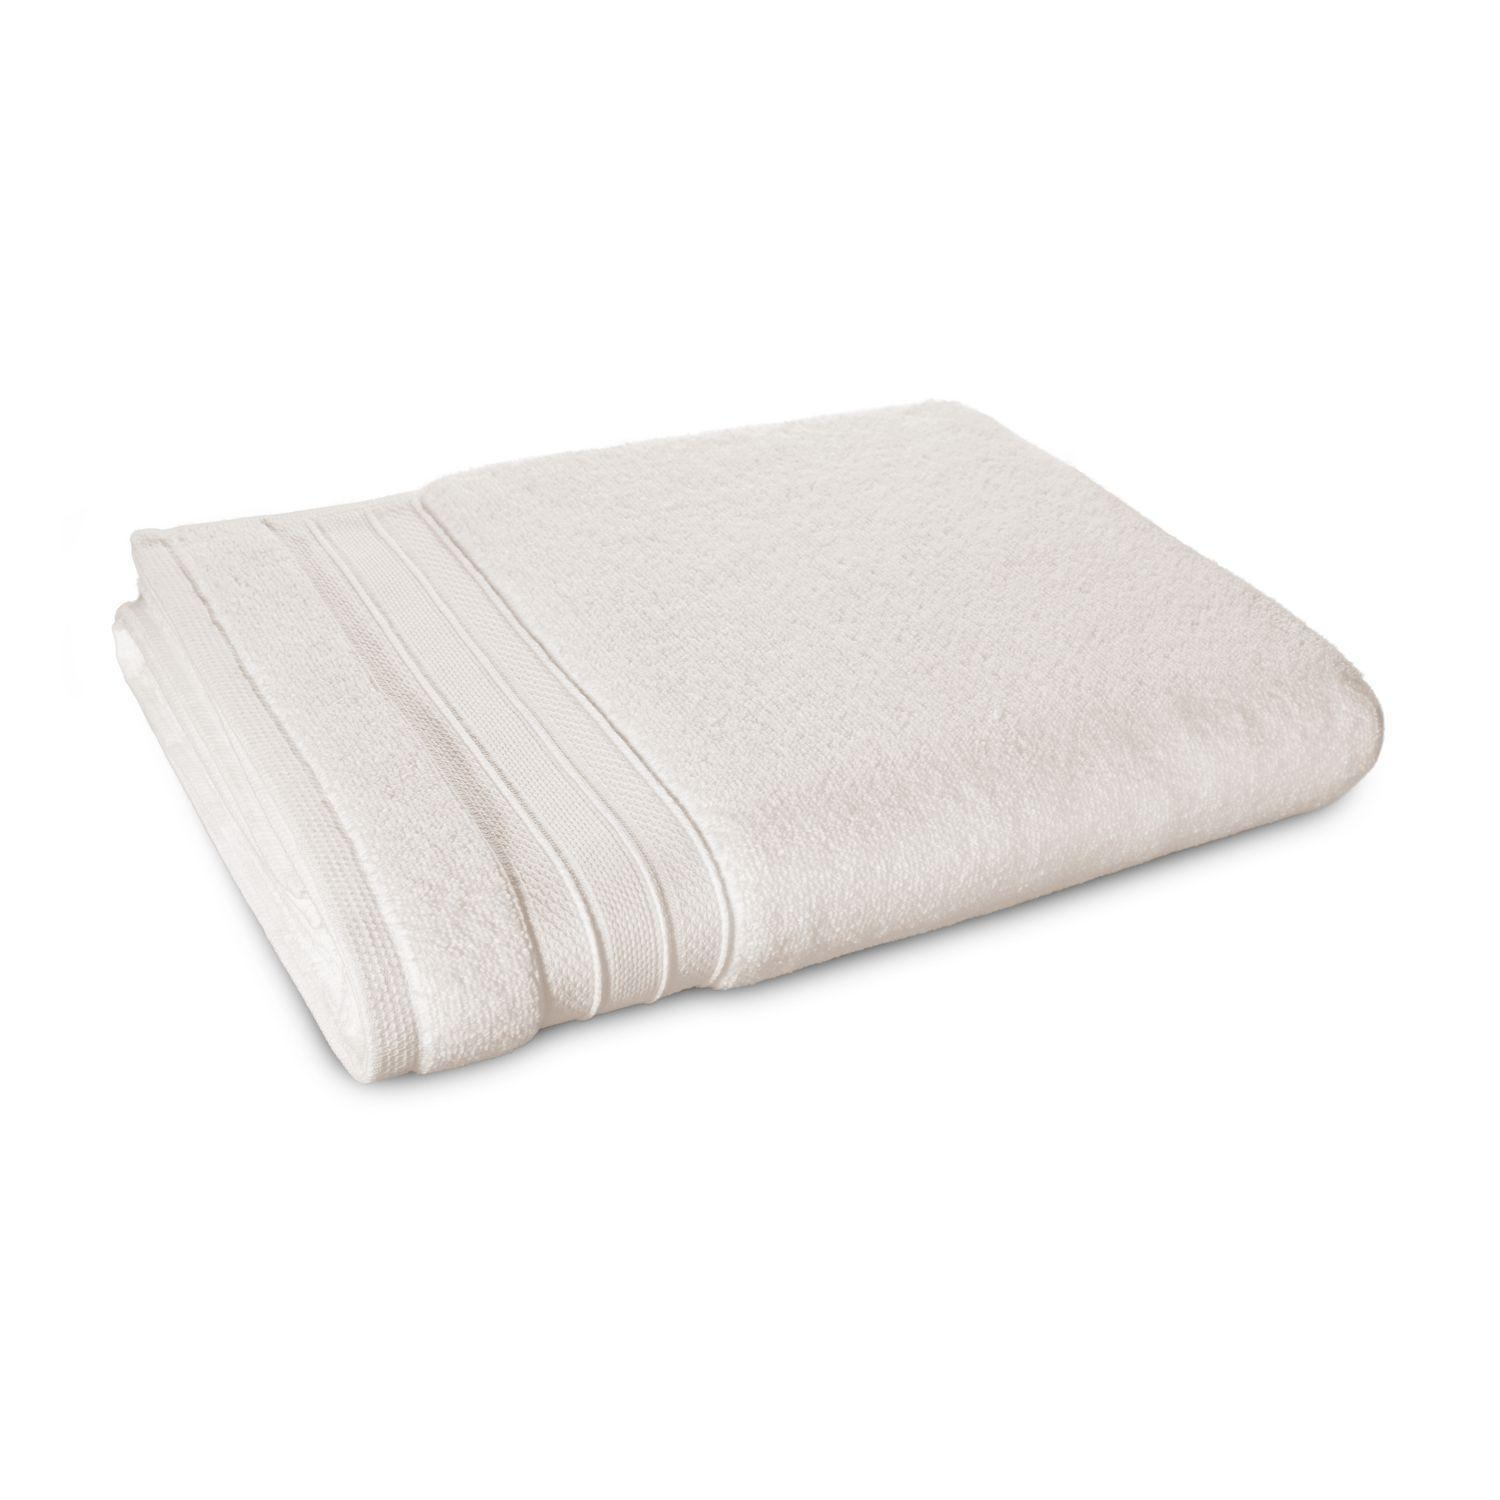towel: (0, 334, 1370, 1100)
